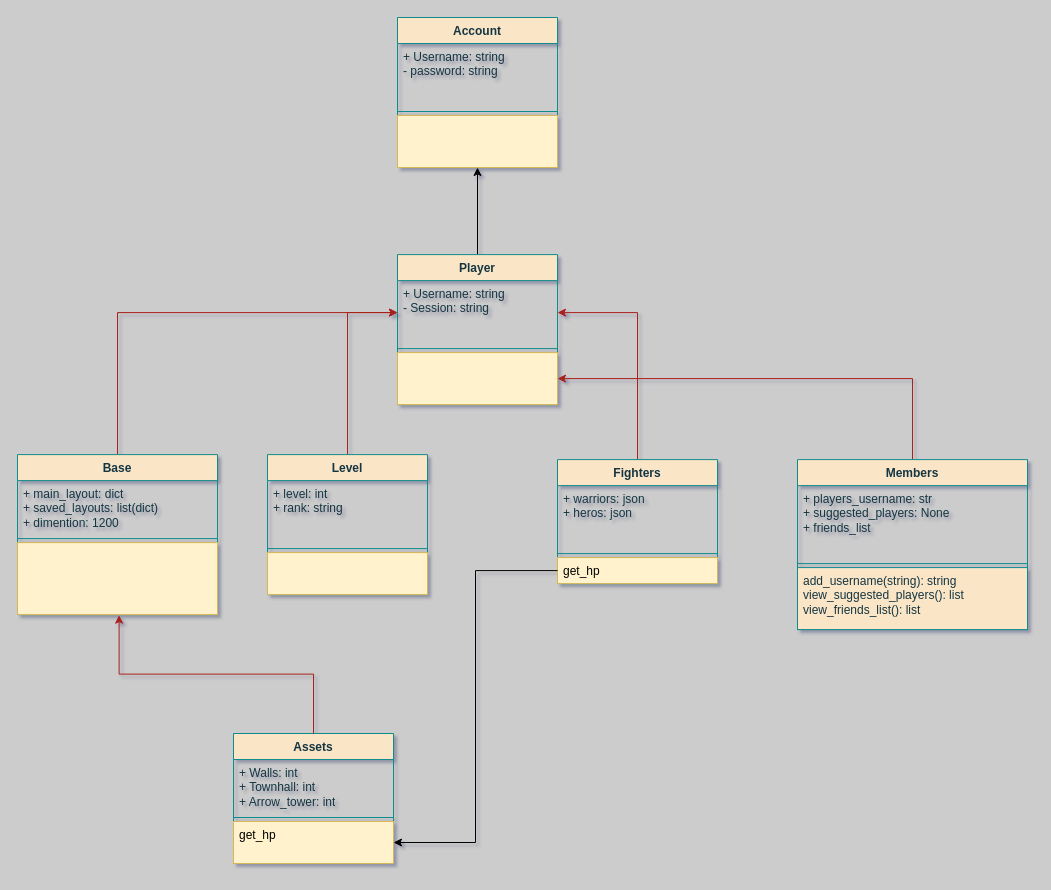
Image size: 1051x890. Some labels were removed from this diagram. The centre of each missing label's shape, as x and y in pixels:
"+ get_main_layout(): dict - get_saved_layouts(): list(dict" goes at point (117, 578).
"+ get_username(): str + view_friends(): list + get_base_info" goes at point (477, 378).
"- get_password(): String + register(): Bool + login(): String" goes at point (477, 141).
"get_level() get_rank()" goes at point (347, 573).
